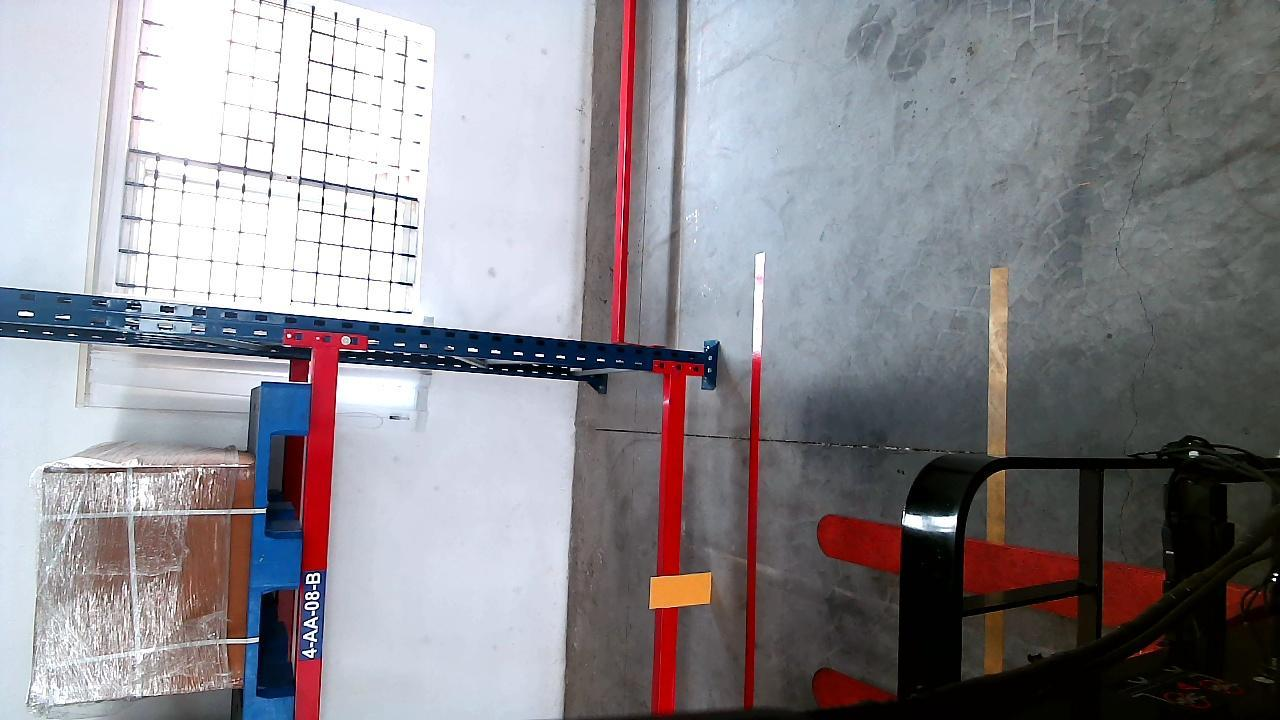red_line: (739, 251, 765, 704)
yellow_line: (981, 262, 1007, 674)
